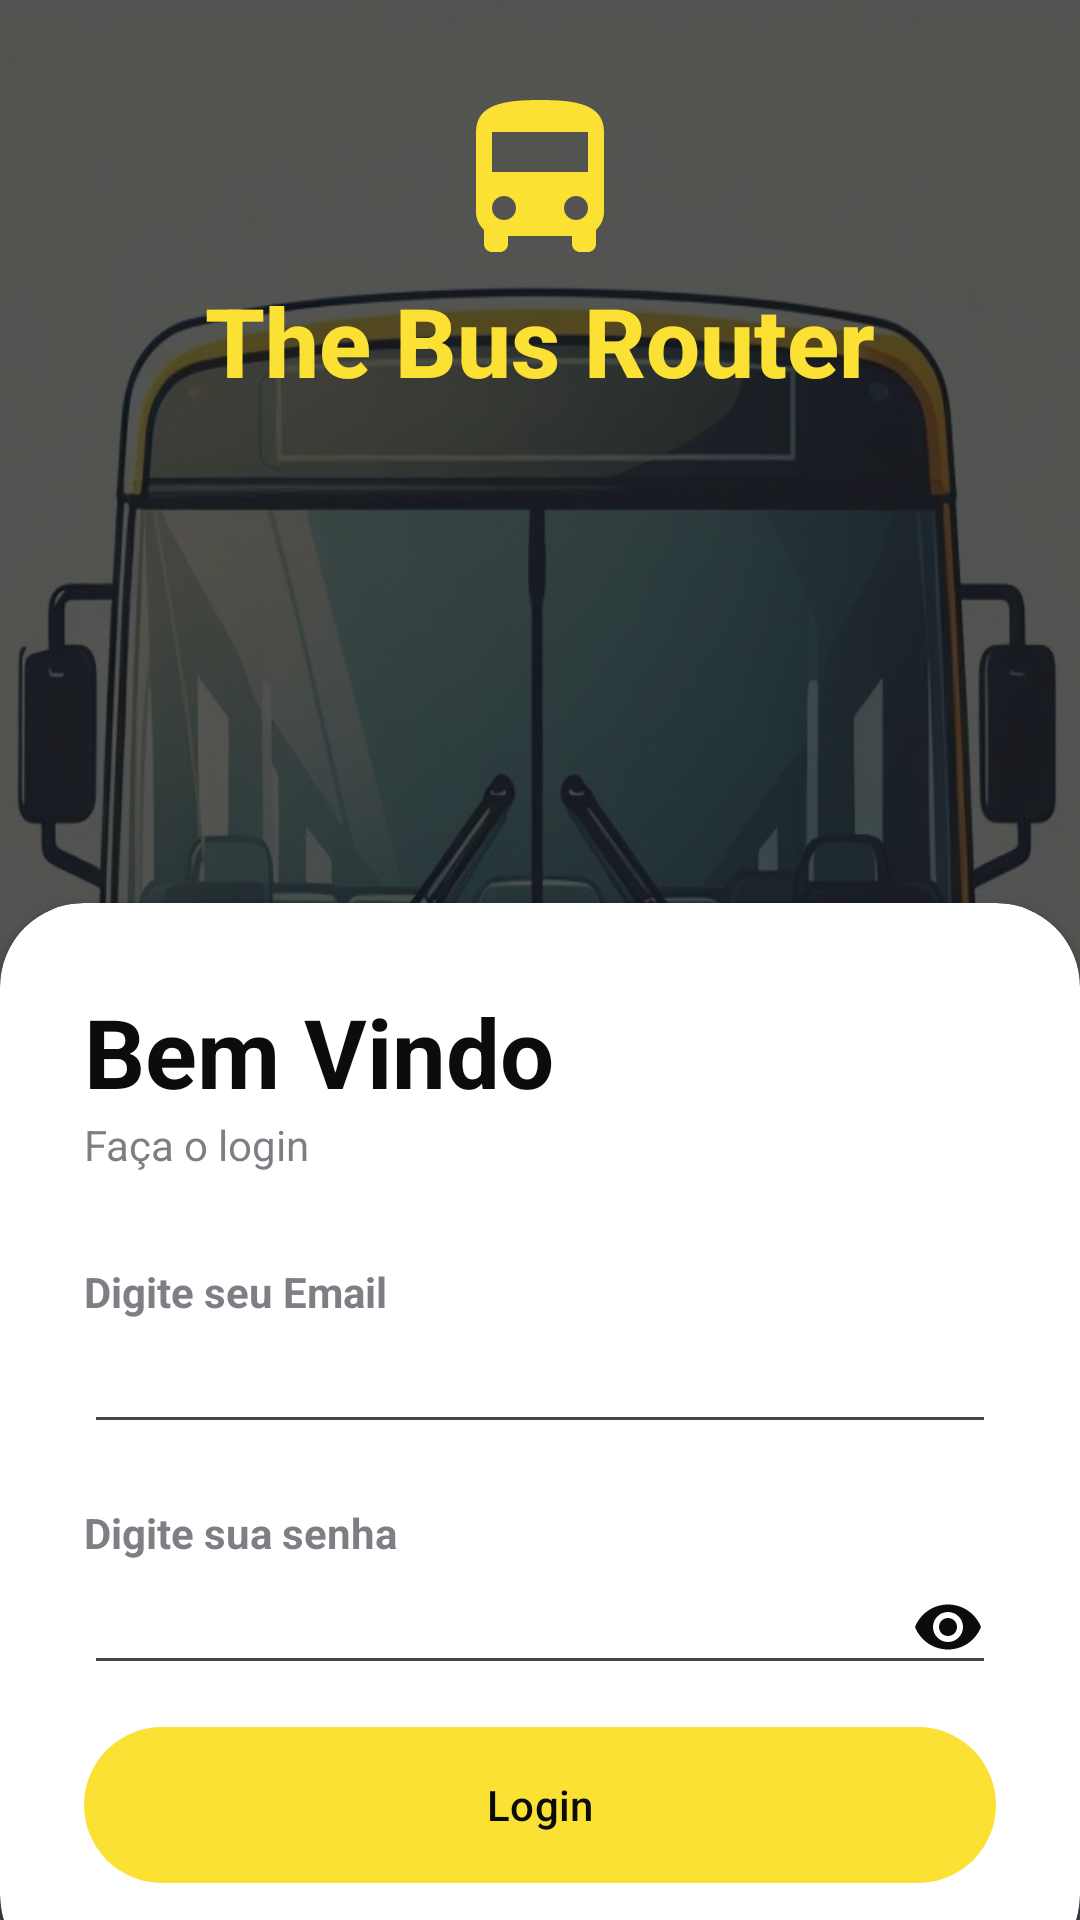

Where to tap for icons on this 1080px×1920px app screen, as [x,y]:
iconebus: [540,176]
